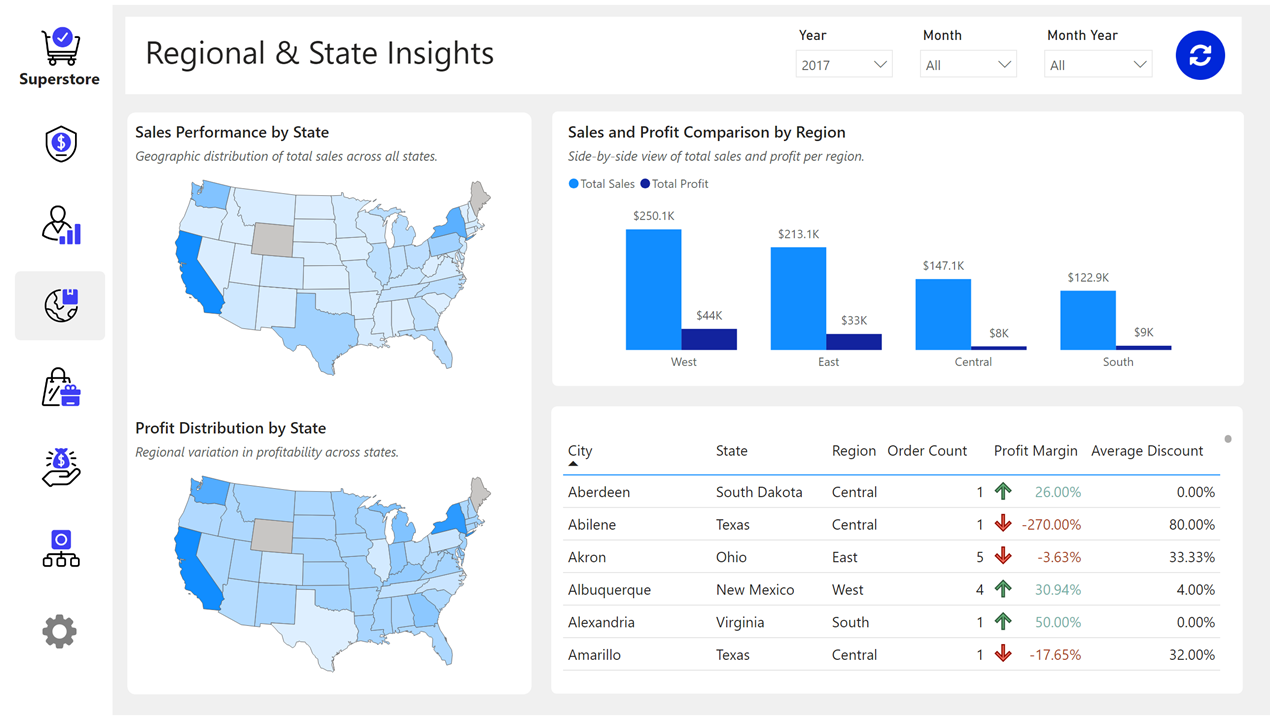

What the dashboard file says about the page in this screenshot:
{"tool":"powerbi","page":{"name":"Regional & State Insights","canvas":[1280,720],"ordinal":3},"visuals":[{"type":"shape","box":[551.4,407.1,701.4,291.4],"z":0},{"type":"shape","box":[551.7,108.3,701.7,278.3],"z":1000},{"type":"shape","box":[121.4,108.6,410,590],"z":2000},{"type":"shape","box":[119.1,11.8,1132.4,78.5],"z":3000},{"type":"textbox","box":[134.3,20,417.1,62.9],"z":4000},{"type":"shapeMap","title":"Sales Performance by State","fields":{"Category":["States.State"],"Value":["Measures_.Total Sales"]},"box":[124,117,405,275],"z":5000},{"type":"shapeMap","title":"Profit Distribution by State","fields":{"Category":["States.State"],"Value":["Measures_.Total Profit"]},"box":[124.3,417.1,404.3,275.7],"z":6000},{"type":"clusteredColumnChart","title":"Sales and Profit Comparison by Region","fields":{"Category":["States.Region"],"Y":["Measures_.Total Sales","Measures_.Total Profit"]},"box":[562.9,117.1,685.7,262.9],"z":7000},{"type":"tableEx","fields":{"Values":["Locations.City","States.State","States.Region","Measures_.Order Count","Measures_.Profit Margin","Measures_.Average Discount"]},"box":[556.7,430,690,251.7],"z":8000},{"type":"shape","box":[0,0,106,720],"z":9000},{"type":"image","box":[28.5,362,50,50],"z":10000},{"type":"image","box":[29.5,526,48,50],"z":11000},{"type":"image","box":[28.5,444,50,50],"z":12000},{"type":"image","box":[29.5,116,48,50],"z":13000},{"type":"shape","box":[6.7,270,91.7,70],"z":14000},{"type":"image","box":[31.5,280,44,50],"z":15000},{"type":"image","box":[28.5,198,50,50],"z":16000},{"type":"image","box":[25,17.1,56.7,50],"z":17000},{"type":"textbox","box":[3.3,58.3,98.3,41.7],"z":18000},{"type":"slicer","fields":{"Values":["Order Date.Month"]},"box":[914.7,17.1,118.6,68.6],"z":19000},{"type":"slicer","fields":{"Values":["Order Date.Year"]},"box":[788.7,17.1,118.6,68.6],"z":20000},{"type":"slicer","fields":{"Values":["Order Date.MonthYear"]},"box":[1040.6,17.1,130,68.6],"z":21000},{"type":"image","box":[1170,21.4,78.6,60],"z":22000},{"type":"image","box":[26.9,612.9,50,44.3],"z":23000}]}

Visuals, with their boxes on the page's 1280x720 design canvas (x1, y1, x2, y2). These are canvas units, not pixel positions in the 1280x720 screenshot, which may show the page scaled, cropped or inside an application window:
shape: region(551, 407, 1253, 698)
shape: region(552, 108, 1253, 387)
shape: region(121, 109, 531, 699)
shape: region(119, 12, 1252, 90)
textbox: region(134, 20, 551, 83)
"Sales Performance by State" shapeMap: region(124, 117, 529, 392)
"Profit Distribution by State" shapeMap: region(124, 417, 529, 693)
"Sales and Profit Comparison by Region" clusteredColumnChart: region(563, 117, 1249, 380)
tableEx - Locations.City x States.State: region(557, 430, 1247, 682)
shape: region(0, 0, 106, 720)
image: region(28, 362, 78, 412)
image: region(30, 526, 78, 576)
image: region(28, 444, 78, 494)
image: region(30, 116, 78, 166)
shape: region(7, 270, 98, 340)
image: region(32, 280, 76, 330)
image: region(28, 198, 78, 248)
image: region(25, 17, 82, 67)
textbox: region(3, 58, 102, 100)
slicer - Order Date.Month: region(915, 17, 1033, 86)
slicer - Order Date.Year: region(789, 17, 907, 86)
slicer - Order Date.MonthYear: region(1041, 17, 1171, 86)
image: region(1170, 21, 1249, 81)
image: region(27, 613, 77, 657)
